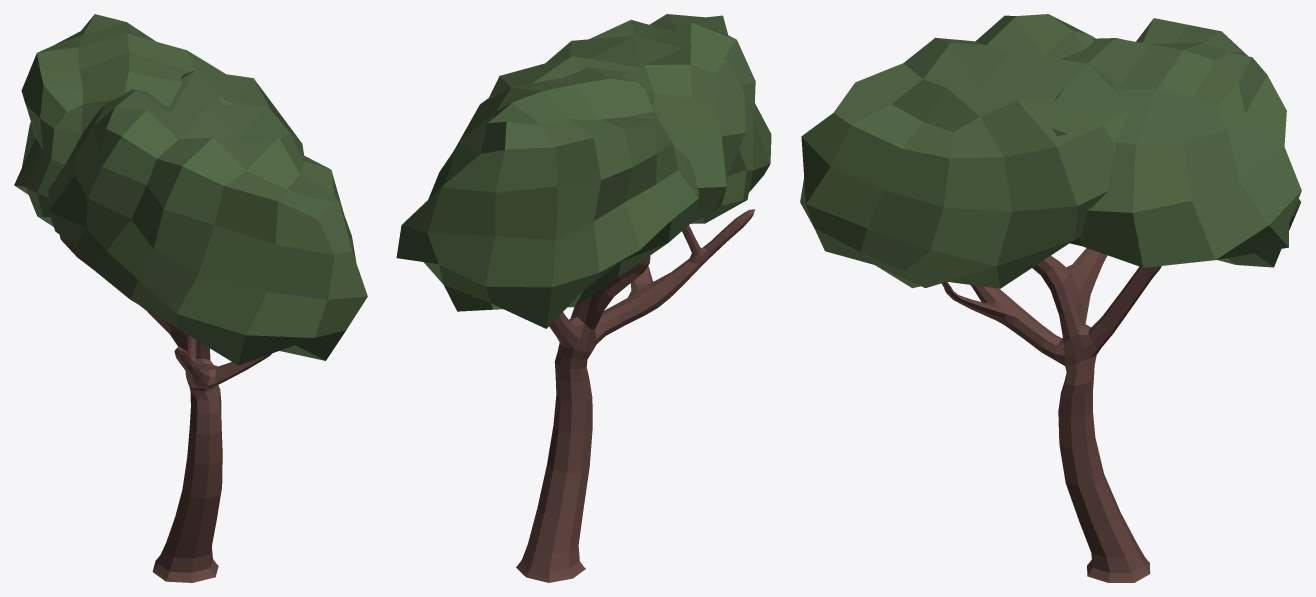
File: CommonTree_5.glb
3 renders of one model, left to right at view 1: azimuth 30°, elevation 25°; view 2: azimuth 150°, elevation 25°; view 3: azimuth 270°, elevation 25°, orthographic. The views are drawn at different scales.
Visible parts, largest first — view 1: CommonTree; view 2: CommonTree; view 3: CommonTree.
Part boxes in pixels (x1,y1,x2,y2): CommonTree: [14, 14, 367, 582]; CommonTree: [396, 14, 771, 582]; CommonTree: [800, 14, 1301, 582].
Size of the model in its own units: 1.29 by 2.53 by 2.25.
